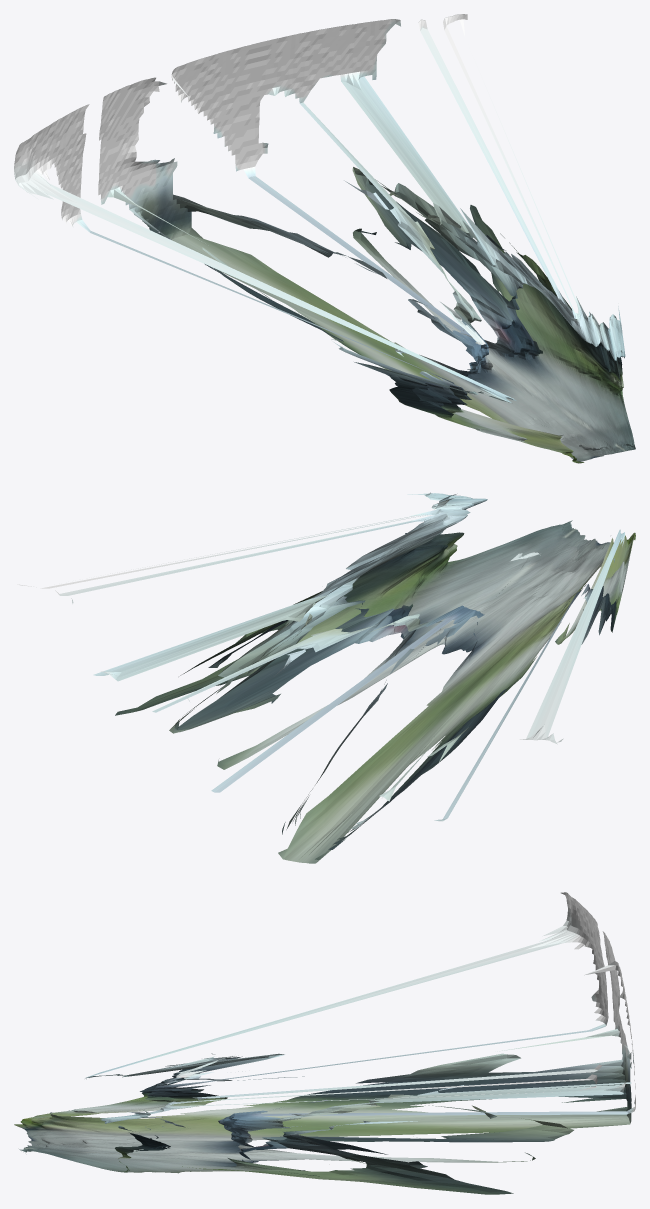
3 renders of one model, top to bottom at view 1: azimuth 30°, elevation 25°; view 2: azimuth 150°, elevation 25°; view 3: azimuth 270°, elevation 25°, orthographic. The views are drawn at different scales.
Visible parts, largest first — view 1: defaultobject; view 2: defaultobject; view 3: defaultobject.
Boxes of the visible parts, x1,y1,x2,y2 form: defaultobject: [14, 14, 635, 463]; defaultobject: [17, 492, 635, 863]; defaultobject: [14, 892, 635, 1194].
Bounding box in the file's own units: 34.38 × 12.5 × 45.36.
1 material, 1 textured.
